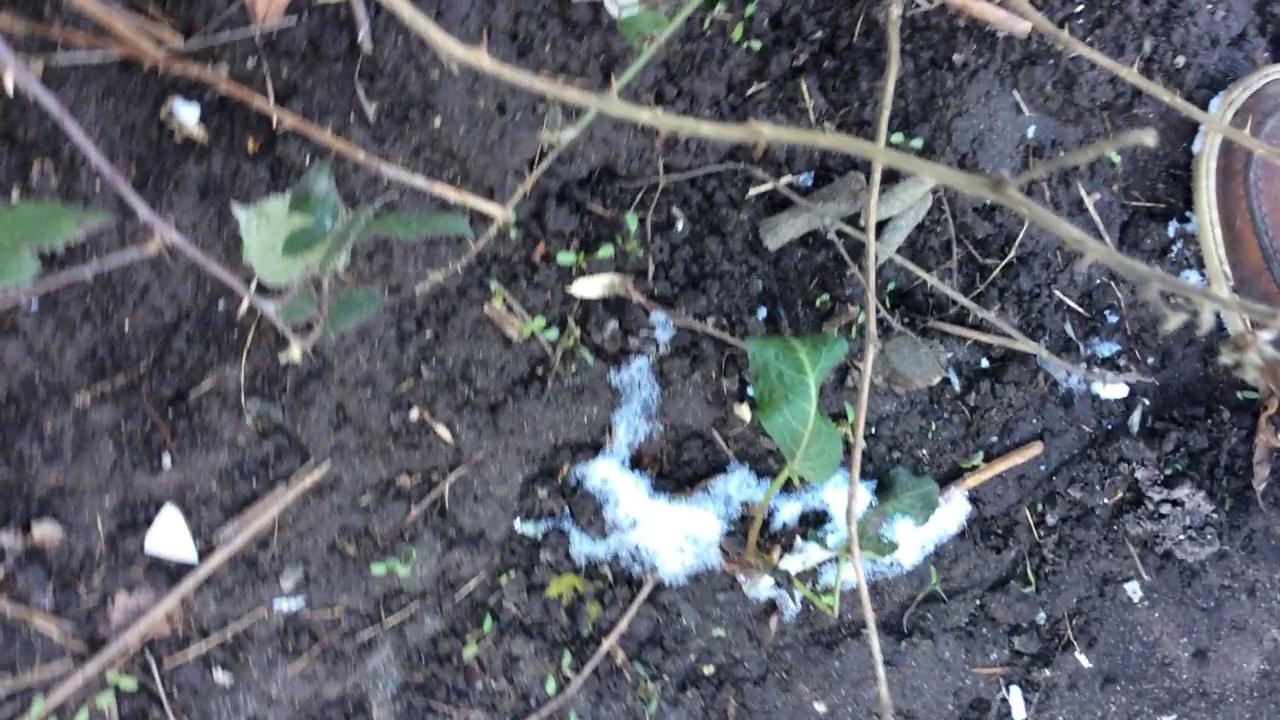root: (730, 531, 808, 589)
rumex: (722, 326, 945, 629)
